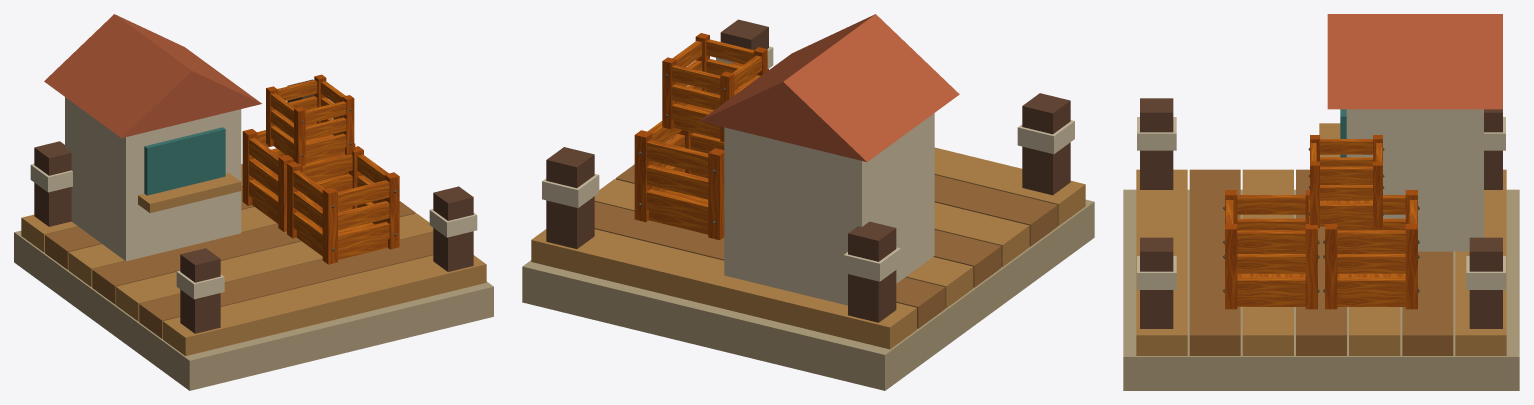
File: dock.gltf
3 views of the same model, side by side, from view 1: azimuth 30°, elevation 25°; view 2: azimuth 150°, elevation 25°; view 3: azimuth 270°, elevation 25° (orthographic). The views are drawn at different scales.
Visible parts, largest first — view 1: dock; view 2: dock; view 3: dock.
Boxes of the visible parts, bbox=[...] form: dock: bbox=[14, 14, 493, 390]; dock: bbox=[522, 14, 1094, 390]; dock: bbox=[1123, 14, 1519, 390].
Size of the model in its own units: 1.9 by 1.38 by 1.9.
2 materials, 1 textured.
